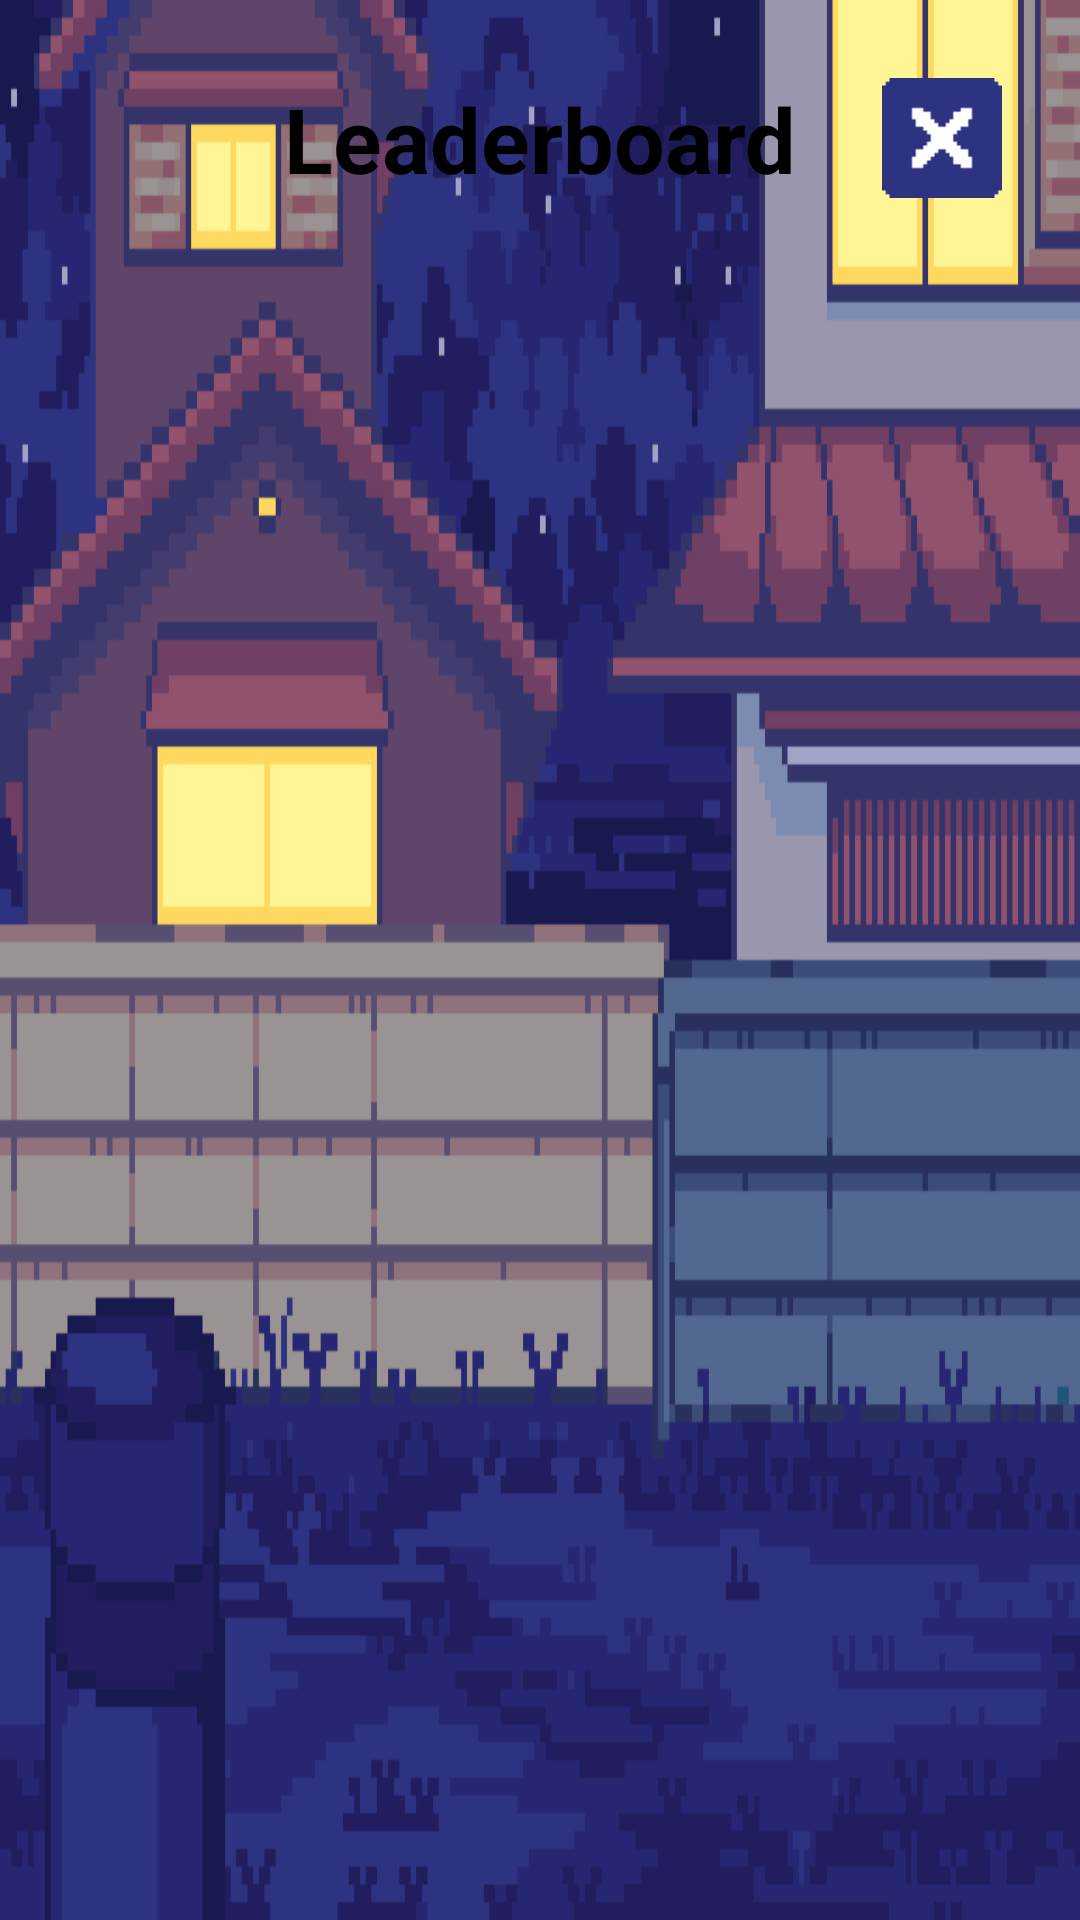

Where icons sit on this 1080 × 1920 app screen, as (x1, y1, x2, y2):
exit: (882, 78, 1002, 198)
